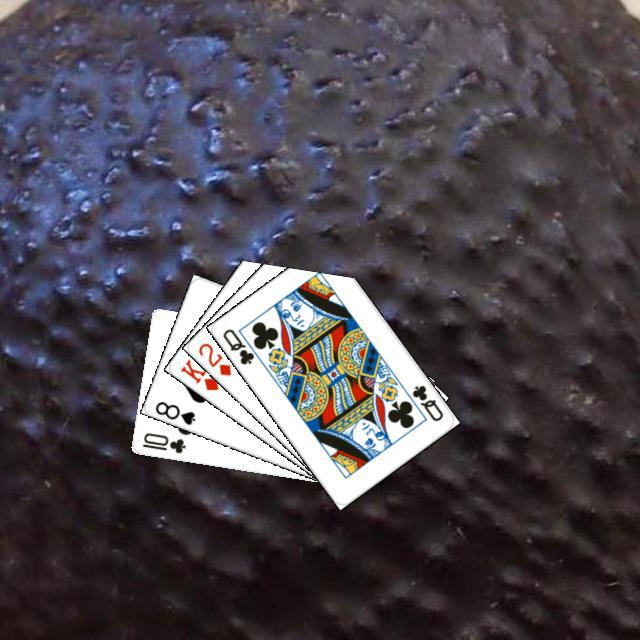10c: (137, 428, 187, 455)
2d: (193, 338, 233, 378)
8s: (150, 396, 197, 427)
Kd: (175, 354, 220, 392)
Qc: (218, 323, 263, 367), (407, 380, 445, 423)
